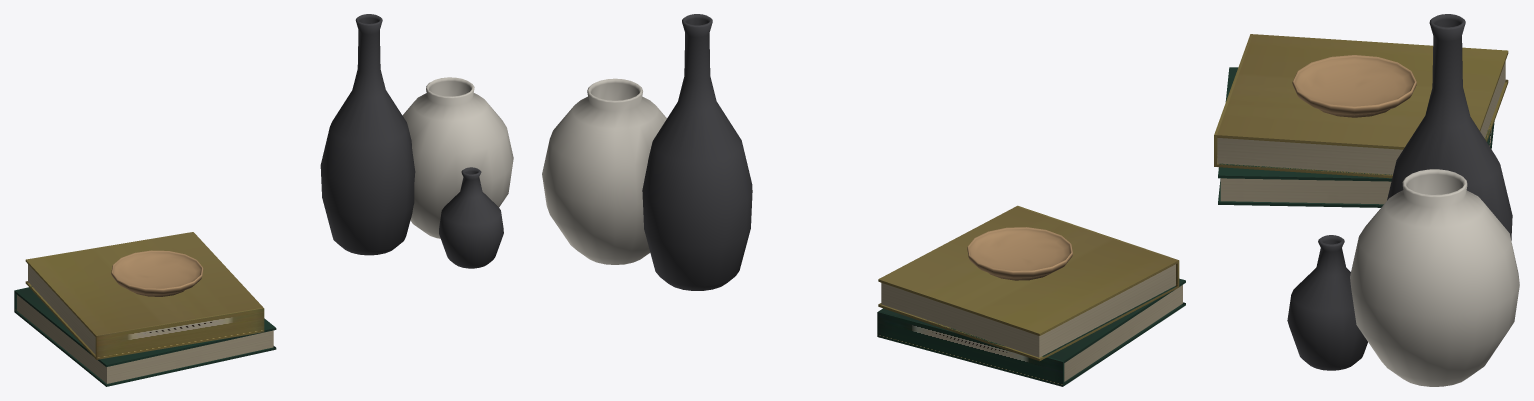
Rendered from decor_c_vignette_console.gltf.
3 views of the same model, side by side, from view 1: azimuth 30°, elevation 25°; view 2: azimuth 150°, elevation 25°; view 3: azimuth 270°, elevation 25° (orthographic). The views are drawn at different scales.
Visible parts, largest first — view 1: DecorC_VignetteConsole_Spines_NoCollide, DecorC_VignetteConsole_Charcoal_NoCollide, DecorC_VignetteConsole_Glaze_NoCollide, DecorC_VignetteConsole_Bronze_NoCollide; view 2: DecorC_VignetteConsole_Spines_NoCollide, DecorC_VignetteConsole_Charcoal_NoCollide, DecorC_VignetteConsole_Glaze_NoCollide, DecorC_VignetteConsole_Bronze_NoCollide; view 3: DecorC_VignetteConsole_Spines_NoCollide, DecorC_VignetteConsole_Glaze_NoCollide, DecorC_VignetteConsole_Charcoal_NoCollide, DecorC_VignetteConsole_Bronze_NoCollide.
Part boxes in pixels (x1,y1,x2,y2): DecorC_VignetteConsole_Spines_NoCollide: [14, 232, 276, 386]; DecorC_VignetteConsole_Charcoal_NoCollide: [320, 14, 503, 268]; DecorC_VignetteConsole_Glaze_NoCollide: [402, 77, 513, 238]; DecorC_VignetteConsole_Bronze_NoCollide: [111, 250, 203, 296]; DecorC_VignetteConsole_Spines_NoCollide: [877, 205, 1185, 386]; DecorC_VignetteConsole_Charcoal_NoCollide: [642, 14, 752, 290]; DecorC_VignetteConsole_Glaze_NoCollide: [542, 78, 666, 264]; DecorC_VignetteConsole_Bronze_NoCollide: [967, 227, 1072, 280]; DecorC_VignetteConsole_Spines_NoCollide: [1214, 34, 1508, 207]; DecorC_VignetteConsole_Glaze_NoCollide: [1350, 169, 1519, 386]; DecorC_VignetteConsole_Charcoal_NoCollide: [1287, 14, 1512, 370]; DecorC_VignetteConsole_Bronze_NoCollide: [1292, 55, 1416, 117].
Bounding box in the file's own units: 0.8882 × 0.399 × 0.3673.
Materials: 4 (1 with a texture image).
